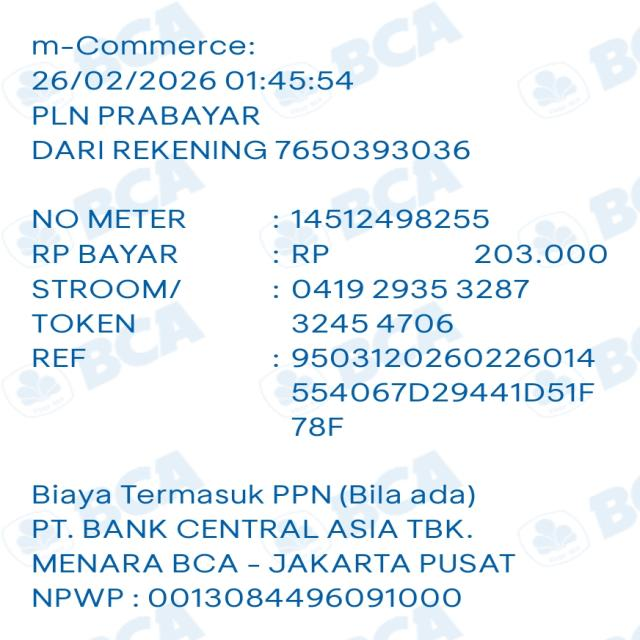store: (29, 98, 265, 136)
total: (291, 237, 614, 269)
